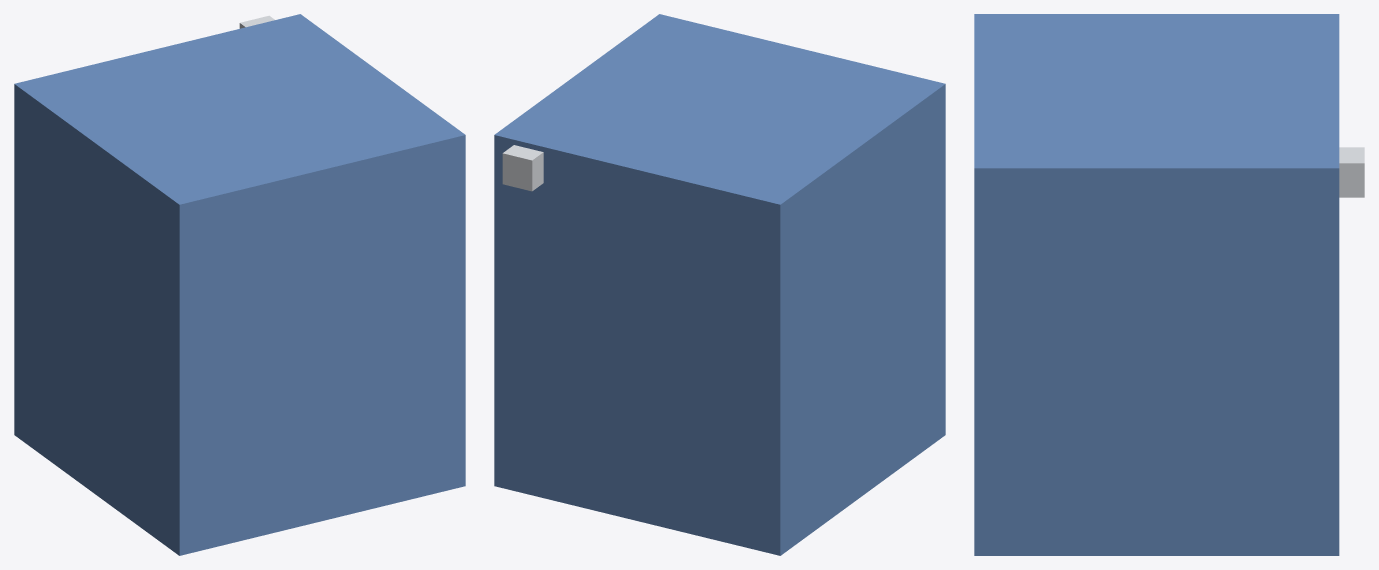
File: caminhoneiro_manga_sup.glb
3 renders of one model, left to right at view 1: azimuth 30°, elevation 25°; view 2: azimuth 150°, elevation 25°; view 3: azimuth 270°, elevation 25°, orthographic. The views are drawn at different scales.
Parts seen in each view (by area): view 1: caminhoneiro_manga_sup; view 2: caminhoneiro_manga_sup; view 3: caminhoneiro_manga_sup.
Boxes of the visible parts, x1,y1,x2,y2 form: caminhoneiro_manga_sup: [14, 14, 465, 555]; caminhoneiro_manga_sup: [494, 14, 945, 555]; caminhoneiro_manga_sup: [974, 14, 1364, 555].
Size of the model in its own units: 0.29 by 0.34 by 0.31.
